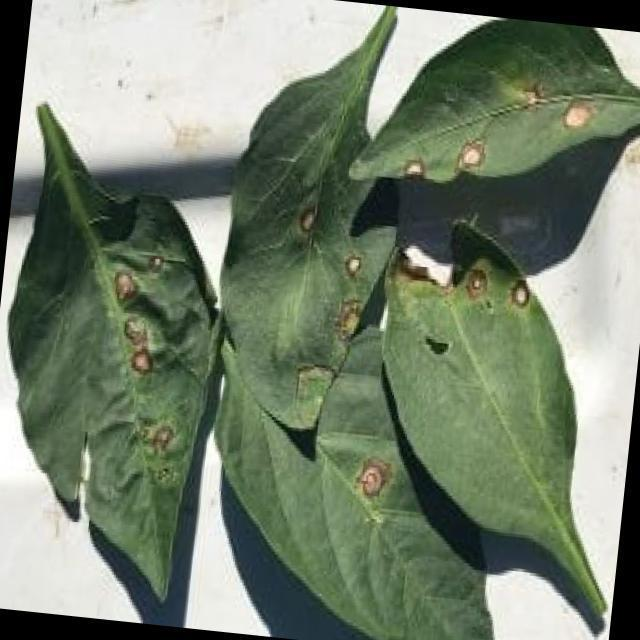Septoria: (403, 39, 619, 194), (108, 250, 201, 497), (283, 182, 389, 349), (458, 250, 536, 320)
